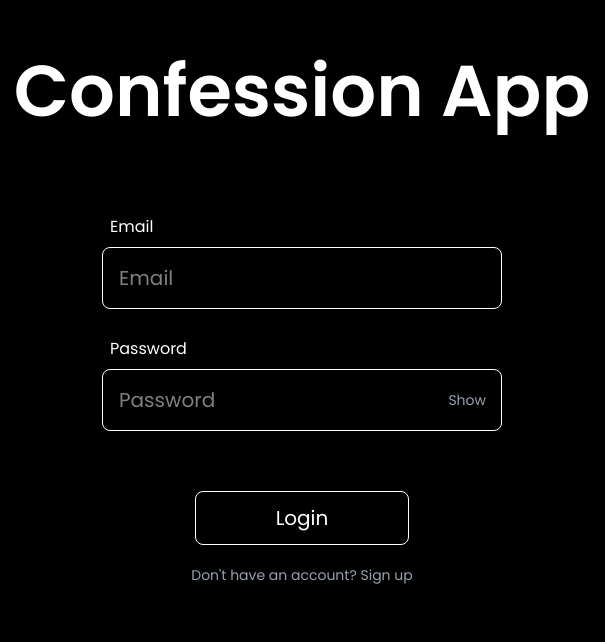
Test case: Form › switches back to Login mode from Sign Up
The width and height of the screenshot is (605, 642).
Click the text "Don't have an account? Sign up" at (302, 575), box [191,565,413,585]
(page scrolled)
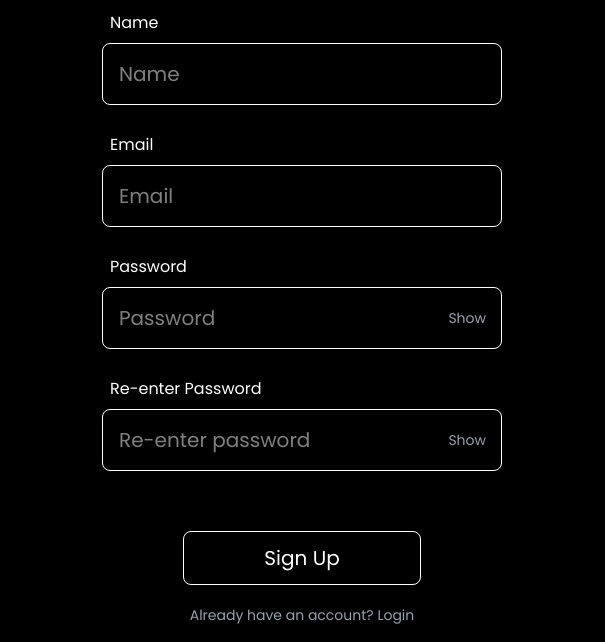
Click the text "Already have an account? Login" at (302, 615), box [190,605,414,625]
(page scrolled)
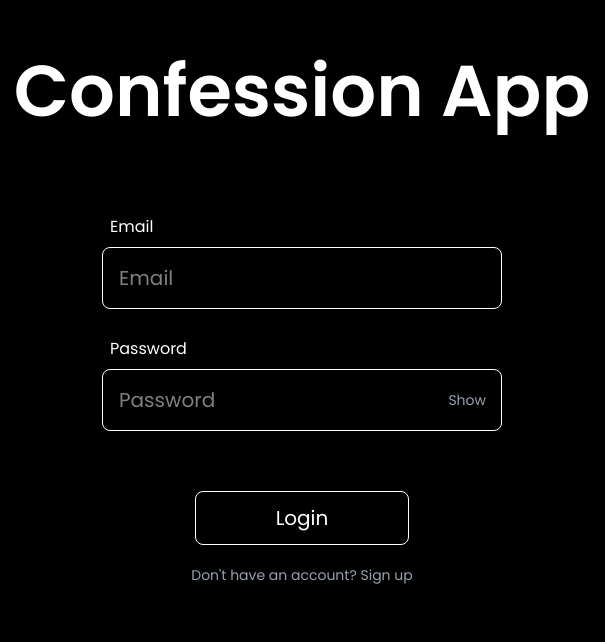
Check: the button "Login" is shown, box [195,491,409,545]
